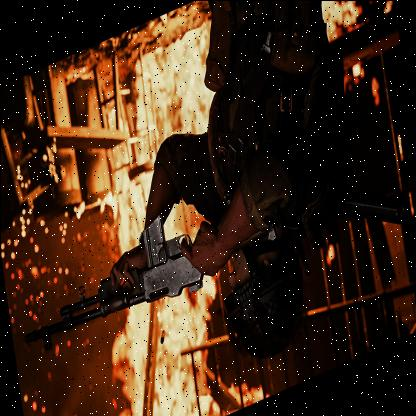rifle: (10, 170, 276, 379)
